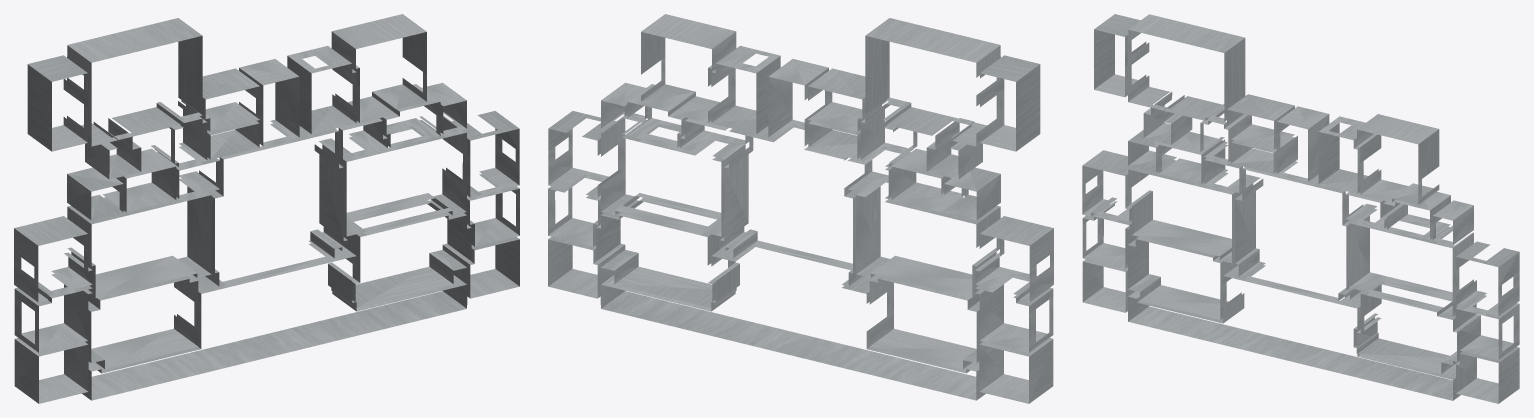
File: wall.obj
3 renders of one model, left to right at view 1: azimuth 30°, elevation 25°; view 2: azimuth 150°, elevation 25°; view 3: azimuth 330°, elevation 25°, orthographic. The views are drawn at different scales.
Visible parts, largest first — view 1: scene2_wall; view 2: scene2_wall; view 3: scene2_wall.
Boxes of the visible parts, x1=… form: scene2_wall: x1=14, y1=14, x2=519, y2=403; scene2_wall: x1=548, y1=14, x2=1053, y2=403; scene2_wall: x1=1082, y1=14, x2=1519, y2=403.
Bounding box in the file's own units: 27.34 × 18.33 × 2.4.
Materials: 1 (1 with a texture image).
